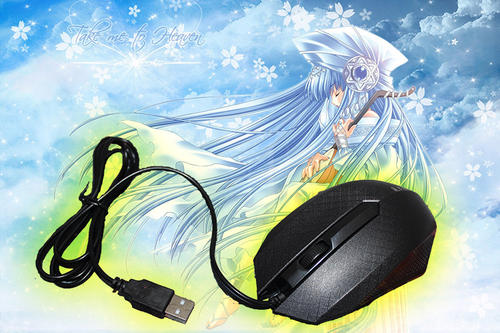mouse: (252, 179, 436, 325)
